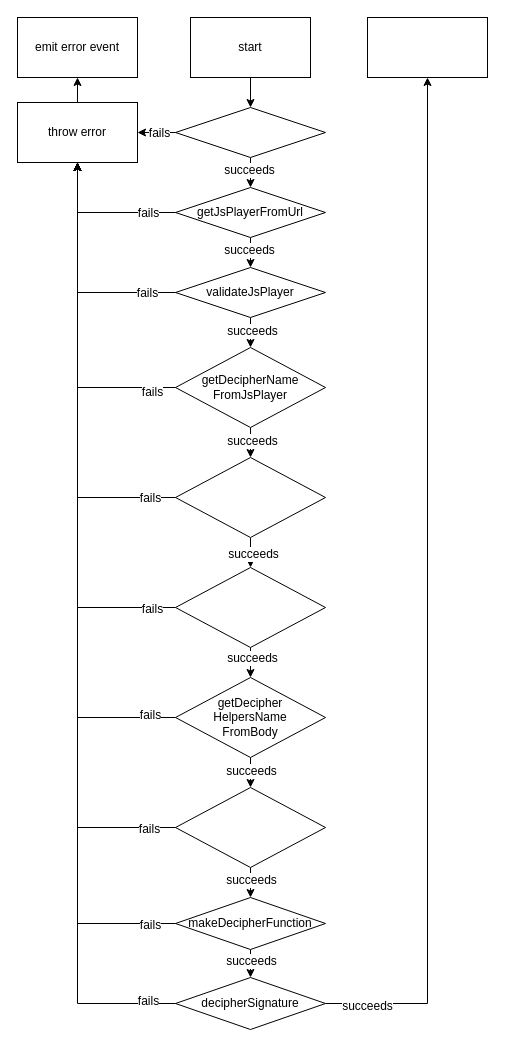
Some shapes in this 505 by 1047 pixel diagram are drawn without their labels. The centre of each missing label's shape, as x and y in pixels:
emit success event: the point at 427,47
getDecipher Argument FromJsPlayer: the point at 250,497
getDecipher Body FromJsPlayer: the point at 250,607
getDecipher HelpersBody FromJsplayer: the point at 250,827
validateArguments: the point at 250,132
